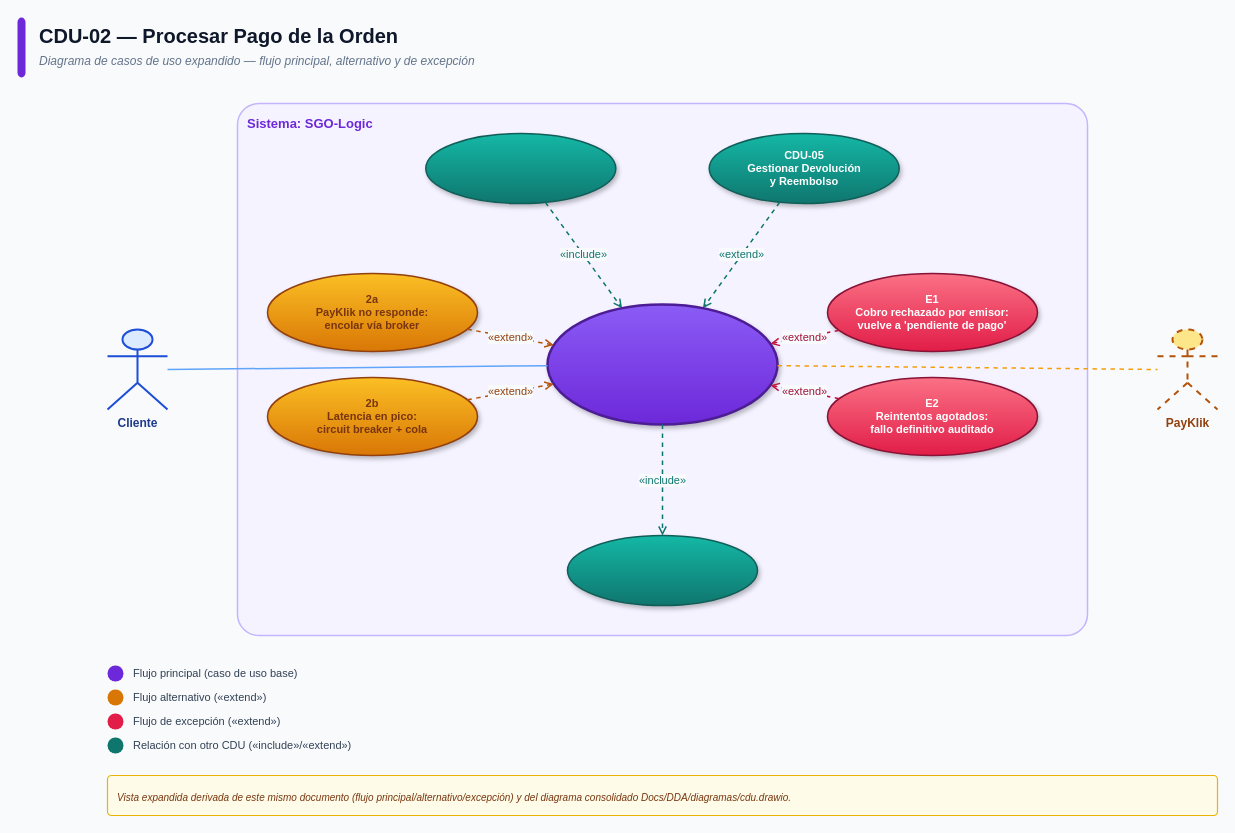
This 1235x833 diagram has some shape labels left out. The shapes that lost their labels are listed below. From the top down, each one's centre as x and y in pixels, then its label:
At pixel 521 169: "CDU-01 Realizar Compra Omnicanal".
At pixel 663 365: "CDU-02 Procesar Pago de la Orden".
At pixel 663 571: "CDU-03 Emitir Documentación Fiscal".
